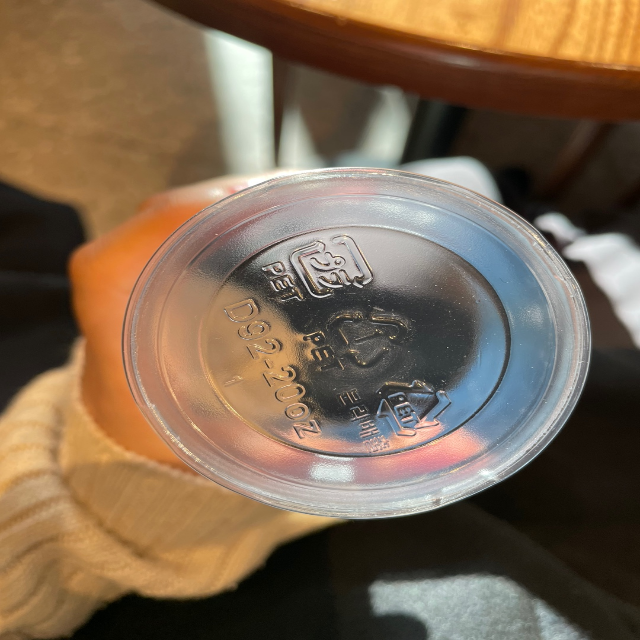pet: (335, 373, 459, 453), (259, 227, 376, 309), (305, 306, 417, 377)
